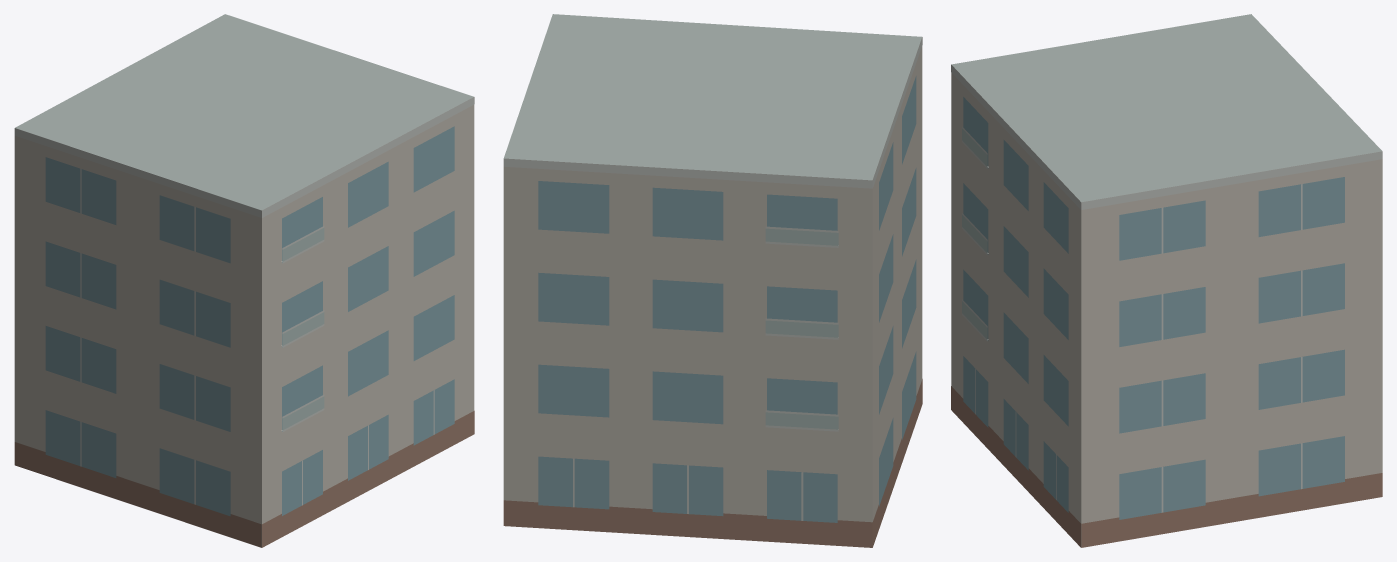
Rendered from survey-upis-32784989.glb.
The picture shows the model from 3 angles, left to right: view 1: azimuth 30°, elevation 25°; view 2: azimuth 150°, elevation 25°; view 3: azimuth 270°, elevation 25°; orthographic projection. The views are drawn at different scales.
Visible parts, largest first — view 1: survey-upis-32784989.tmp; view 2: survey-upis-32784989.tmp; view 3: survey-upis-32784989.tmp.
Boxes of the visible parts, left/top/right/bottom form: survey-upis-32784989.tmp: left=14, top=14, right=474, bottom=547; survey-upis-32784989.tmp: left=503, top=14, right=922, bottom=547; survey-upis-32784989.tmp: left=951, top=14, right=1382, bottom=547.
Bounding box in the file's own units: 12.63 × 10.8 × 12.23.
